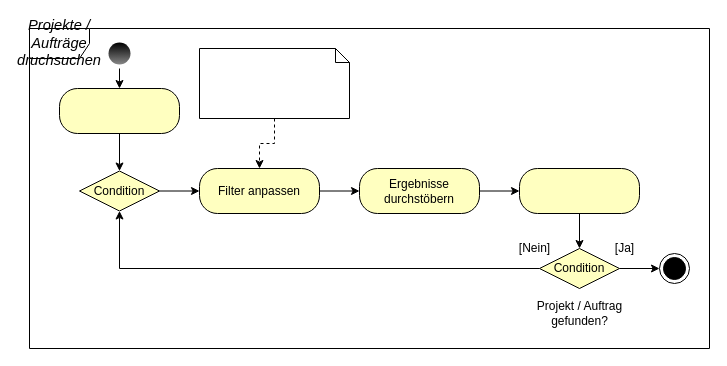
Some shapes in this 727 by 366 pixel diagram are drawn without their labels. Each missing label, with the centre of its shape:
"Filteroptionen: * Suchradius * Firmennamen * Projekt- / Auftragsnamen" belongs at pixel 274 83.
"Projekt / Auftrags Browser öffnen" belongs at pixel 119 111.
"Sucherfolg abfragen" belongs at pixel 579 191.
